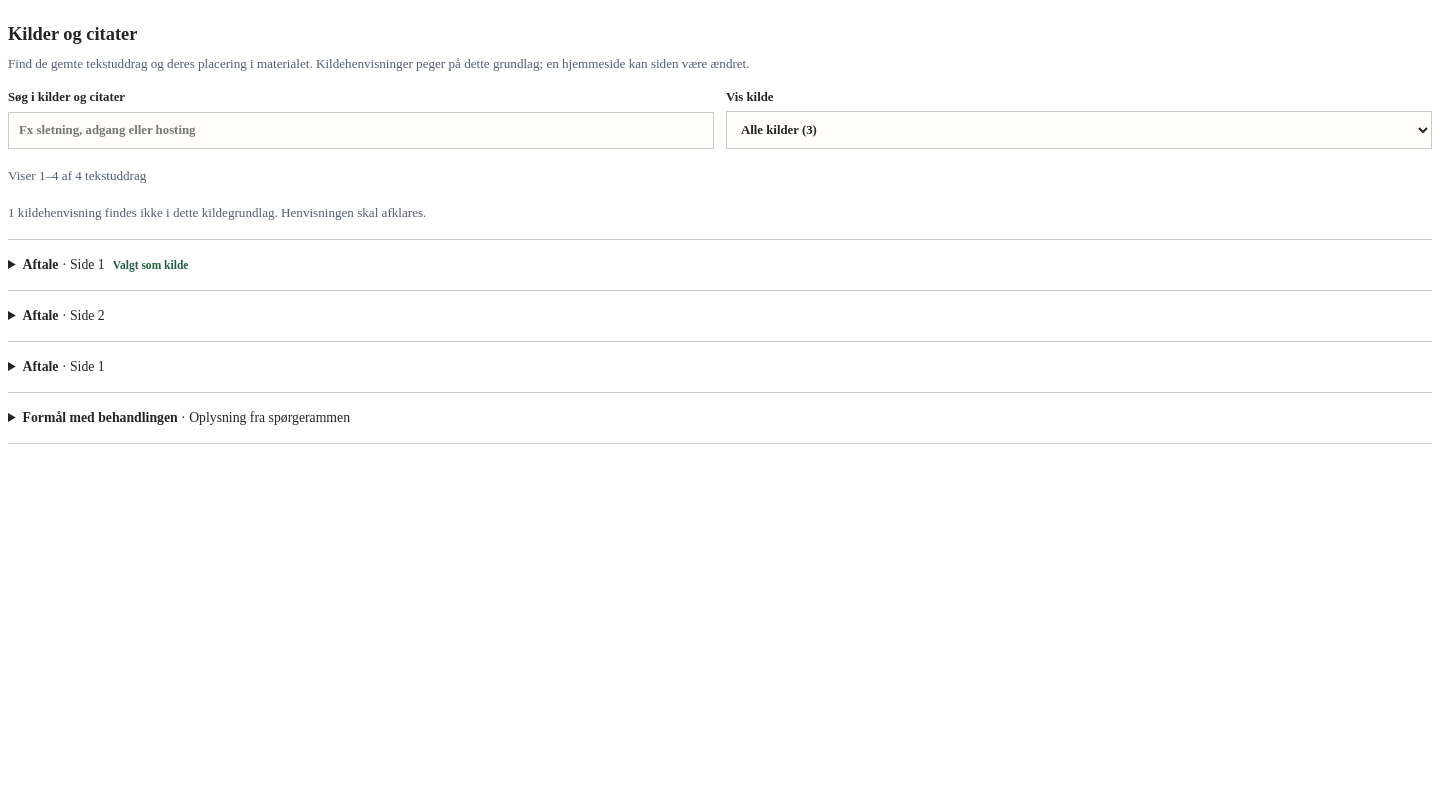
Test: flade AI-kilder grupperes efter præcis dokumentversion, og valgte henvisninger bliver markeret
Expected: the text "Valgt som kilde" is shown, [113,256,188,274]
Expected: the text "1 kildehenvisning findes ikke" is shown, [8,205,426,220]
Click the heading "Aftale · Side 1 Valgt som kilde": [106, 264] box [23,257,188,272]
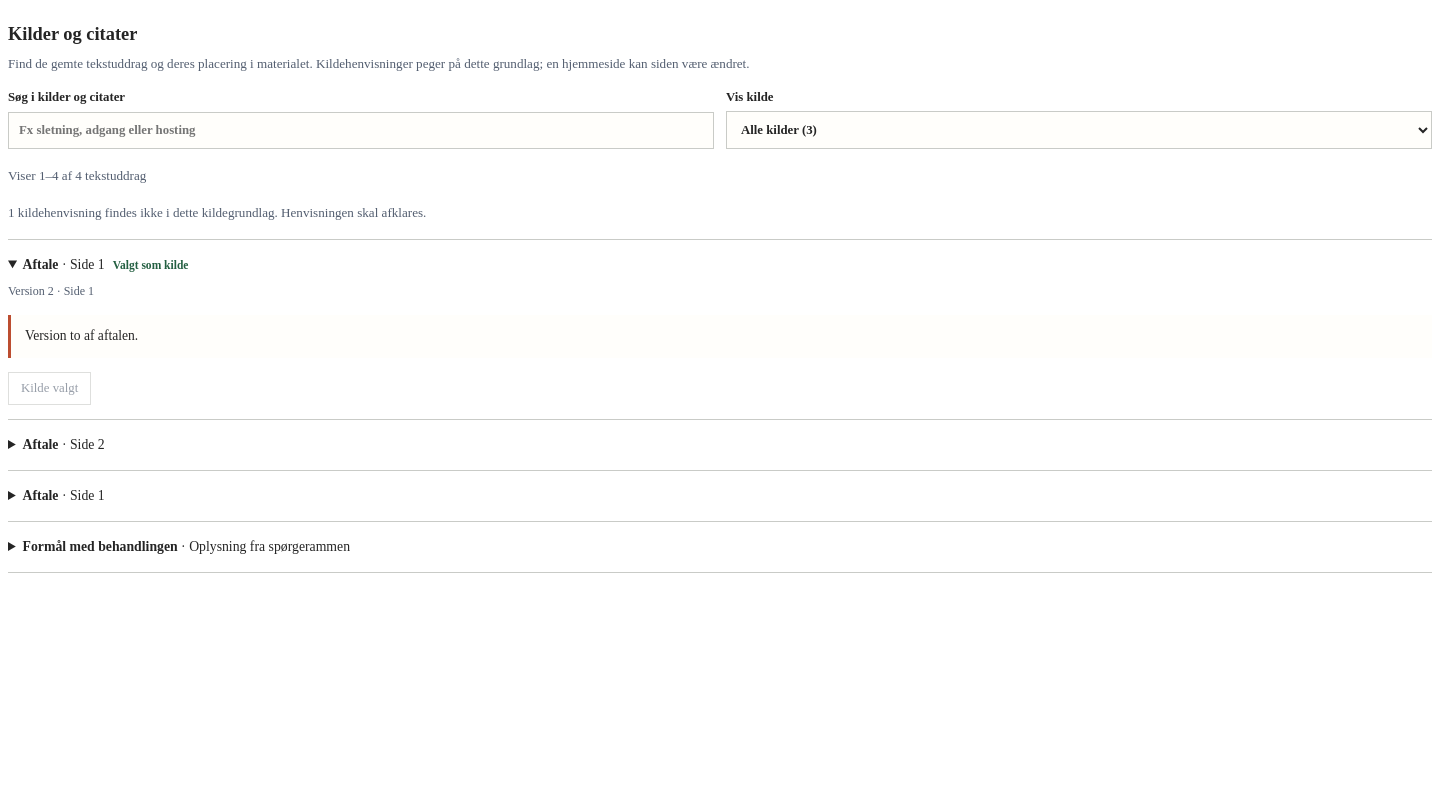
Result: the text "Version 2 · Side 1" is shown at [8,284,94,298]
Result: the button "Kilde valgt" is disabled at [8,372,91,405]
